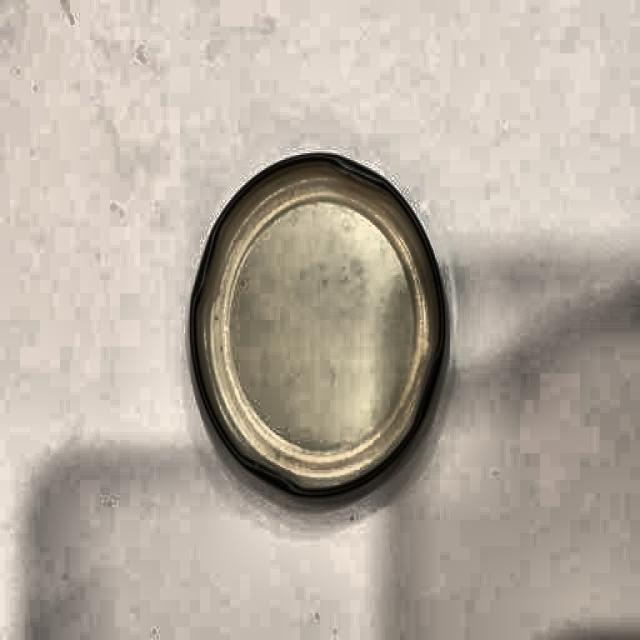metal: (185, 149, 448, 502)
